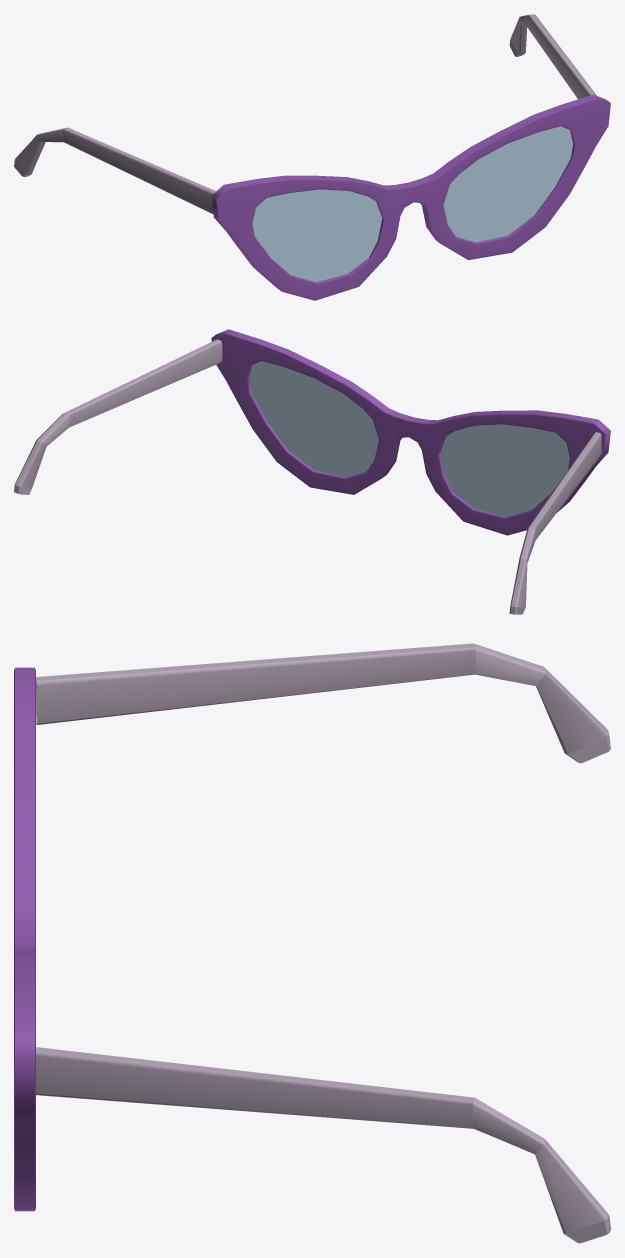
File: Glasses_14_02.fbx
The picture shows the model from 3 angles, top to bottom: view 1: azimuth 30°, elevation 25°; view 2: azimuth 150°, elevation 25°; view 3: azimuth 270°, elevation 25°; orthographic projection. The views are drawn at different scales.
Parts seen in each view (by area): view 1: Glasses_14_02; view 2: Glasses_14_02; view 3: Glasses_14_02.
Boxes of the visible parts, box(x1,y1,x2,y2) form: Glasses_14_02: box(14, 14, 610, 300); Glasses_14_02: box(14, 329, 610, 614); Glasses_14_02: box(14, 643, 610, 1243).
Bounding box in the file's own units: 39.16 × 9.93 × 20.12.
